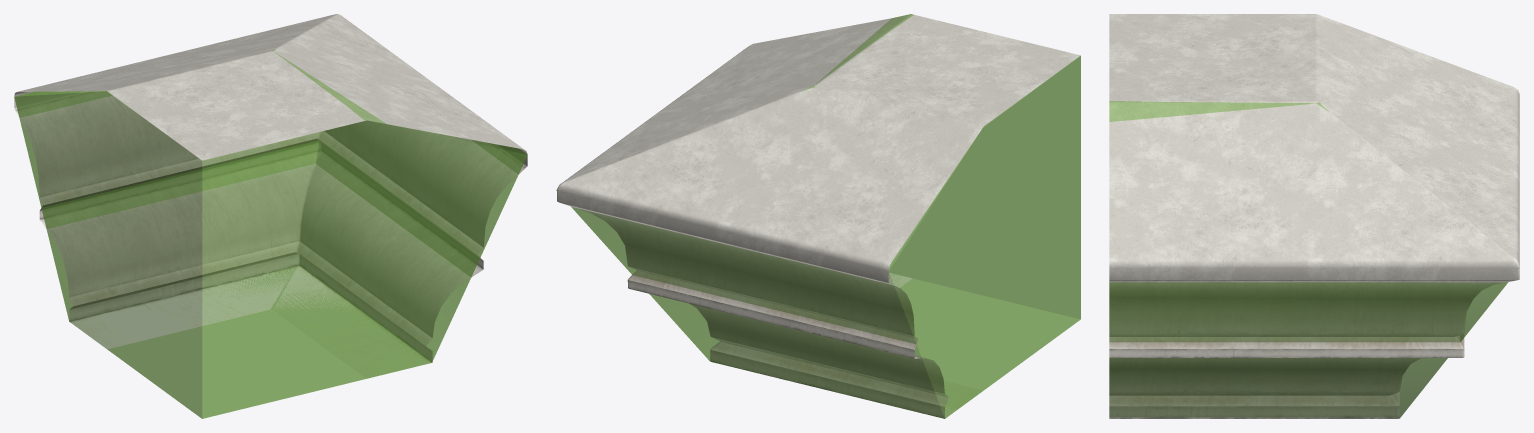
Rendered from F2_md_Roof_90cnr_01.fbx.
3 renders of one model, left to right at view 1: azimuth 30°, elevation 25°; view 2: azimuth 150°, elevation 25°; view 3: azimuth 270°, elevation 25°, orthographic. The views are drawn at different scales.
Parts seen in each view (by area): view 1: F2_md_Roof_90cnr_01_LOD0, F2_md_Roof_90cnr_01_col_01; view 2: F2_md_Roof_90cnr_01_LOD0, F2_md_Roof_90cnr_01_col_01; view 3: F2_md_Roof_90cnr_01_LOD0, F2_md_Roof_90cnr_01_col_01.
Boxes of the visible parts, box(x1,y1,x2,y2) form: F2_md_Roof_90cnr_01_LOD0: box(14, 14, 527, 378); F2_md_Roof_90cnr_01_col_01: box(14, 49, 527, 418); F2_md_Roof_90cnr_01_LOD0: box(557, 14, 1080, 418); F2_md_Roof_90cnr_01_col_01: box(556, 14, 1080, 418); F2_md_Roof_90cnr_01_LOD0: box(1109, 14, 1519, 418); F2_md_Roof_90cnr_01_col_01: box(1109, 101, 1519, 418).
Size of what is drawn, in the model's own units: 198 by 150 by 198.
Materials: 3 (2 with a texture image).
